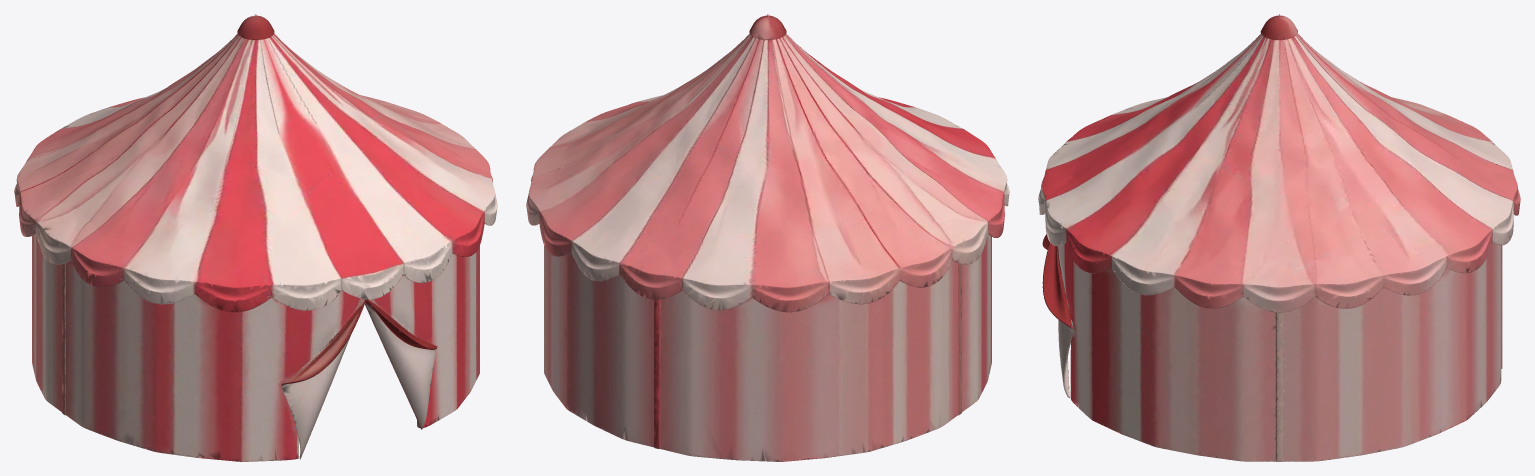
File: Meshy_AI_A_small_circus_tent_w_0823164546_texture-optimized.glb
3 views of the same model, side by side, from view 1: azimuth 30°, elevation 25°; view 2: azimuth 150°, elevation 25°; view 3: azimuth 270°, elevation 25° (orthographic).
Parts seen in each view (by area): view 1: mesh_node; view 2: mesh_node; view 3: mesh_node.
Part boxes in pixels (bbox=[...]): mesh_node: bbox=[14, 14, 497, 461]; mesh_node: bbox=[526, 14, 1009, 461]; mesh_node: bbox=[1038, 14, 1520, 461].
Bounding box in the file's own units: 1.9 × 1.54 × 1.9.
1 material, 1 textured.
